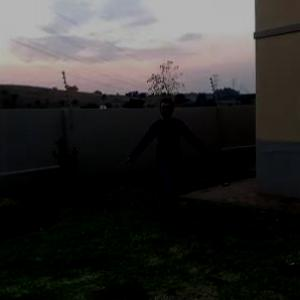land: (124, 92, 218, 238)
